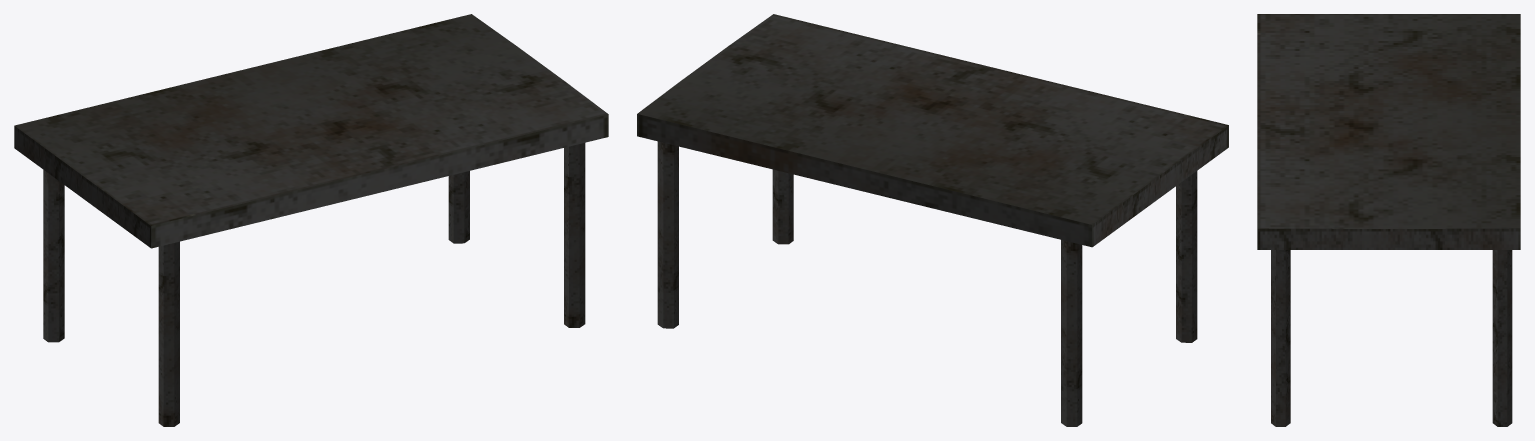
Rendered from Table.fbx.
The picture shows the model from 3 angles, left to right: view 1: azimuth 30°, elevation 25°; view 2: azimuth 150°, elevation 25°; view 3: azimuth 270°, elevation 25°; orthographic projection. The views are drawn at different scales.
Visible parts, largest first — view 1: Filing Cabinet001; view 2: Filing Cabinet001; view 3: Filing Cabinet001.
Part boxes in pixels (x1=…): Filing Cabinet001: x1=14, y1=14, x2=608, y2=426; Filing Cabinet001: x1=637, y1=14, x2=1228, y2=426; Filing Cabinet001: x1=1257, y1=14, x2=1520, y2=426.
Size of the model in its own units: 141 by 62.55 by 72.82.
